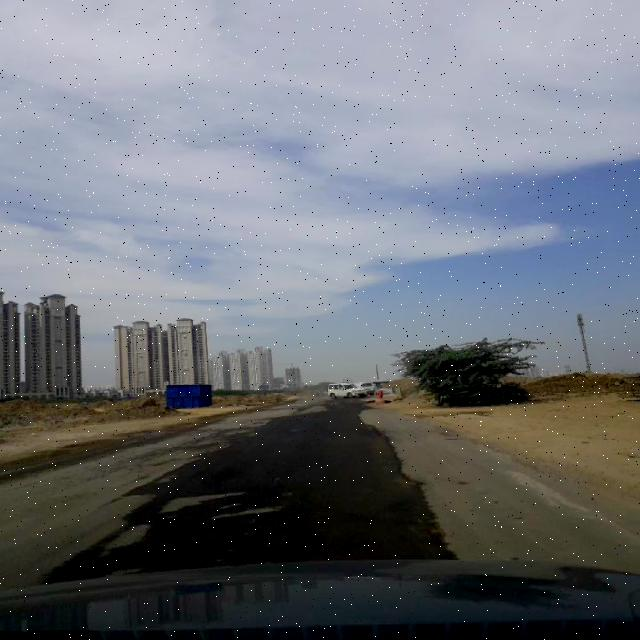D00: (358, 407, 451, 549)
